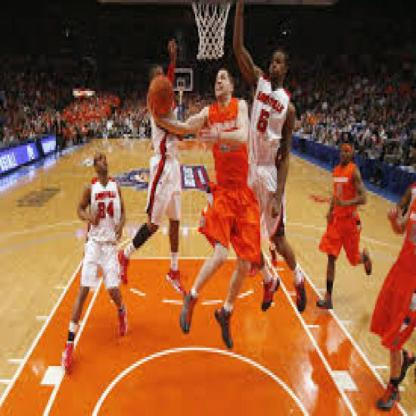basketball: (148, 75, 174, 118)
